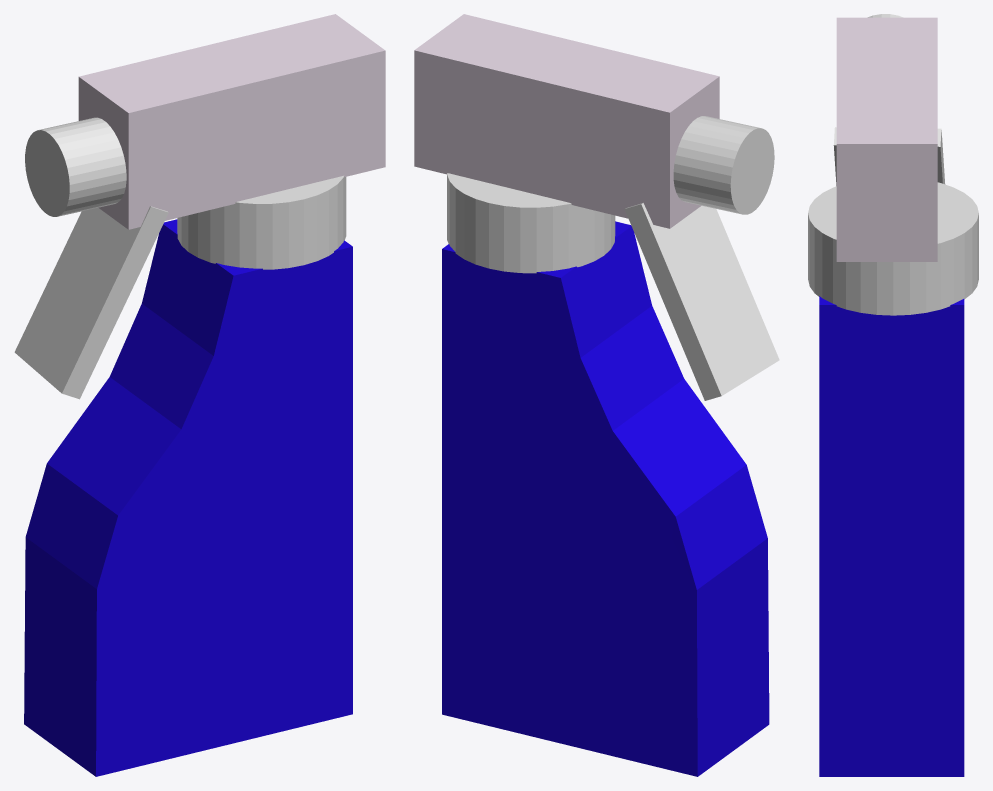
File: shosyu.fbx
3 views of the same model, side by side, from view 1: azimuth 30°, elevation 25°; view 2: azimuth 150°, elevation 25°; view 3: azimuth 270°, elevation 25° (orthographic).
Visible parts, largest first — view 1: Cube, Cube.001, Cube.002, Cylinder, Cylinder.001; view 2: Cube, Cube.001, Cube.002, Cylinder, Cylinder.001; view 3: Cube, Cube.001, Cylinder, Cube.002.
Part boxes in pixels (x1,y1,x2,y2): Cube: (24, 219, 352, 776); Cube.001: (78, 14, 385, 229); Cube.002: (14, 206, 168, 399); Cylinder: (177, 175, 346, 269); Cylinder.001: (25, 117, 126, 216); Cube: (442, 221, 769, 776); Cube.001: (414, 14, 719, 228); Cube.002: (624, 203, 779, 400); Cylinder: (447, 173, 615, 273); Cylinder.001: (673, 116, 774, 214); Cube: (819, 296, 964, 776); Cube.001: (836, 17, 937, 261); Cylinder: (808, 182, 978, 315); Cube.002: (833, 127, 945, 185).
Bounding box in the file's own units: 249 × 482 × 114.
